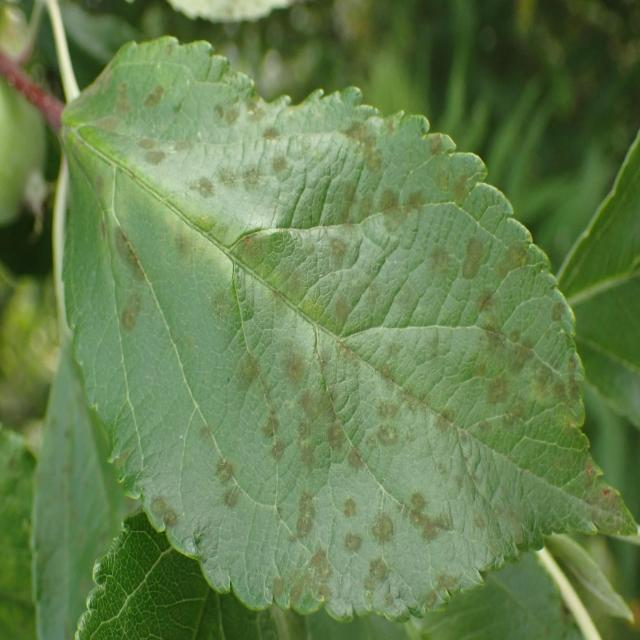scab: (76, 17, 632, 613)
